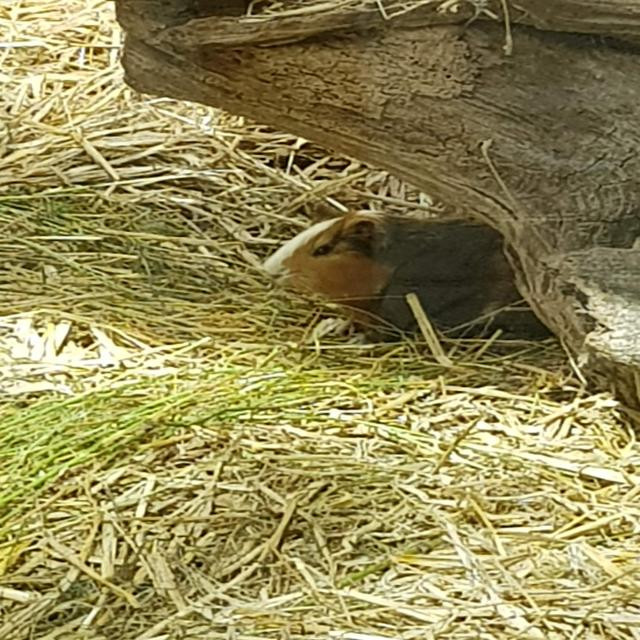guinea pig: (252, 208, 544, 344)
